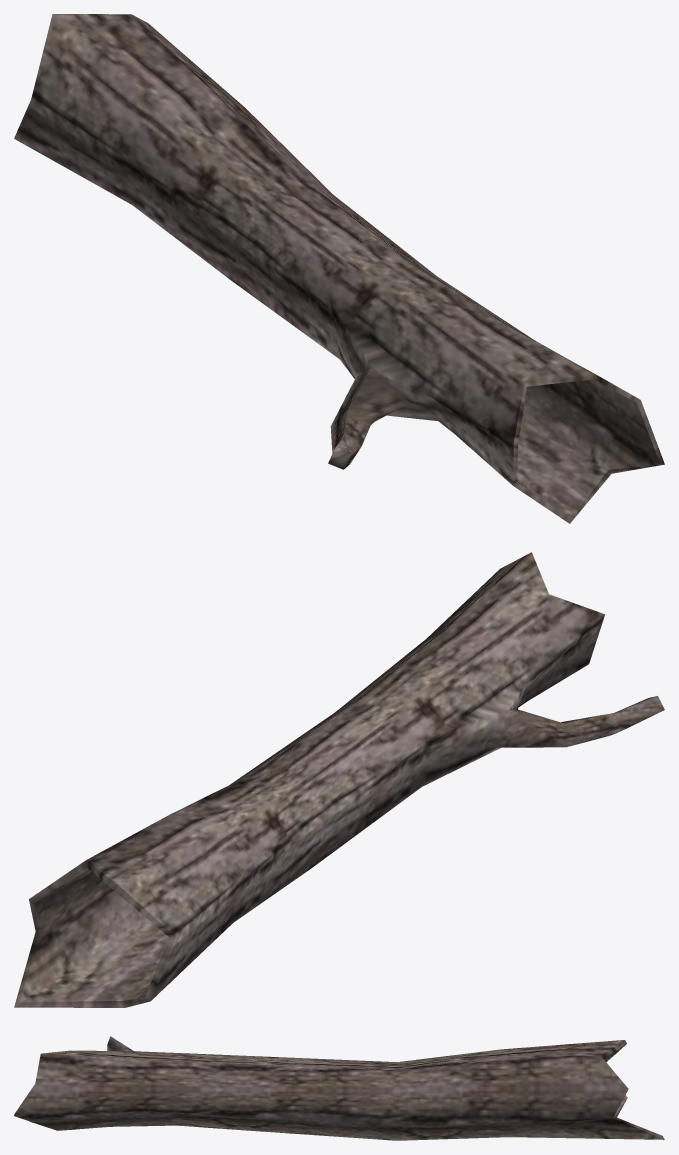
File: Tree08.glb
The picture shows the model from 3 angles, top to bottom: view 1: azimuth 30°, elevation 25°; view 2: azimuth 150°, elevation 25°; view 3: azimuth 270°, elevation 25°; orthographic projection. The views are drawn at different scales.
Parts seen in each view (by area): view 1: Tree08; view 2: Tree08; view 3: Tree08.
Boxes of the visible parts, x1,y1,x2,y2 form: Tree08: [14, 14, 664, 523]; Tree08: [14, 552, 664, 1007]; Tree08: [14, 1036, 664, 1140].
Size of the model in its own units: 1.67 by 0.8755 by 5.96.
1 material, 1 textured.
